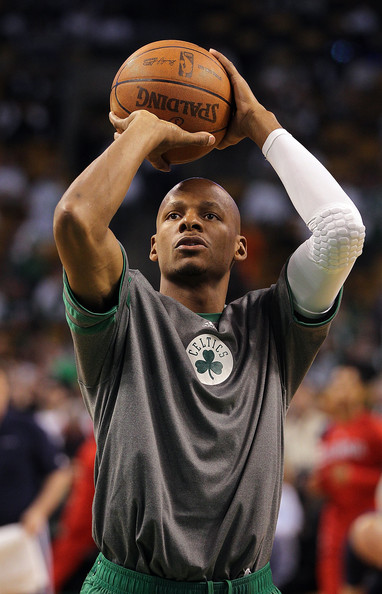Basketball: (109, 39, 233, 165)
